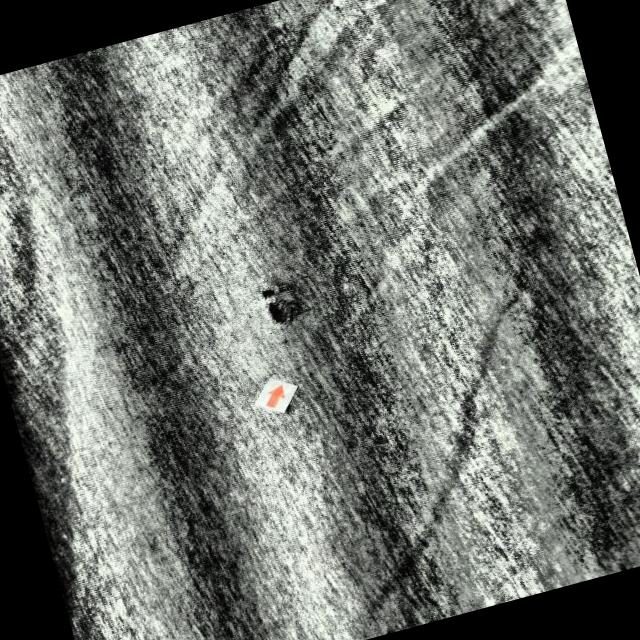cut: (257, 283, 279, 300)
